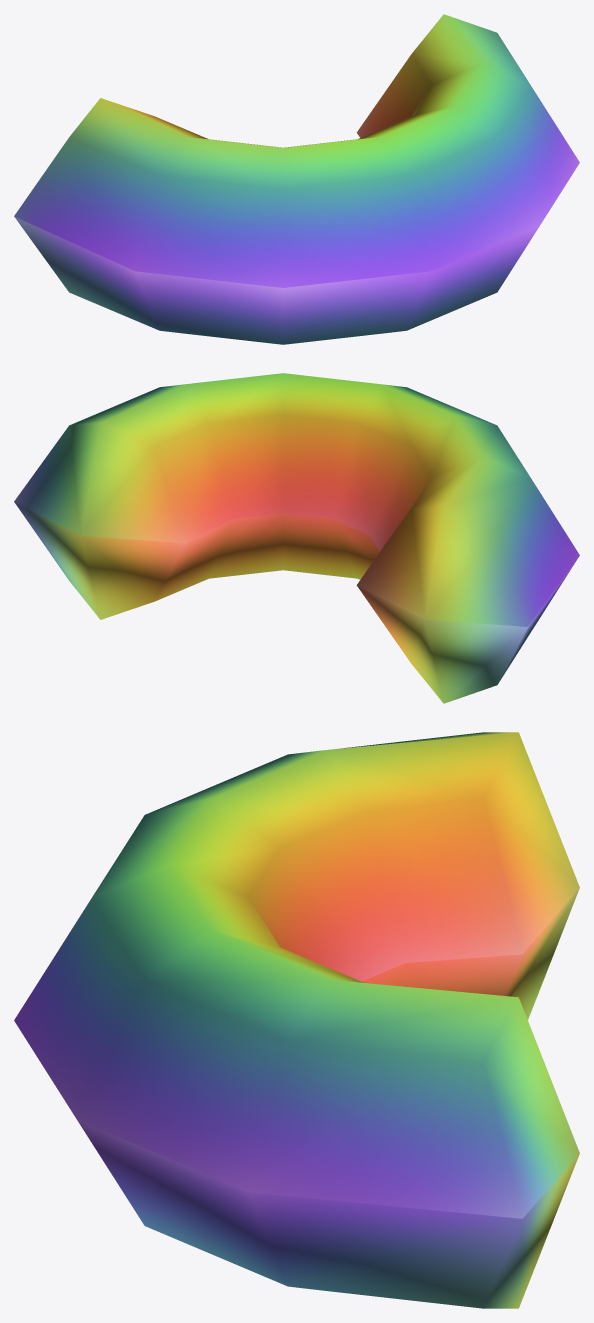
The model's file is rainbow.fbx.
The picture shows the model from 3 angles, top to bottom: view 1: azimuth 30°, elevation 25°; view 2: azimuth 150°, elevation 25°; view 3: azimuth 270°, elevation 25°; orthographic projection. The views are drawn at different scales.
Visible parts, largest first — view 1: rainbow1:pTorus3; view 2: rainbow1:pTorus3; view 3: rainbow1:pTorus3.
Part boxes in pixels (box(x1,y1,x2,y2)): rainbow1:pTorus3: box(14, 14, 579, 344); rainbow1:pTorus3: box(14, 373, 579, 703); rainbow1:pTorus3: box(14, 732, 579, 1308).
Size of the model in its own units: 18.11 by 6.63 by 10.92.
